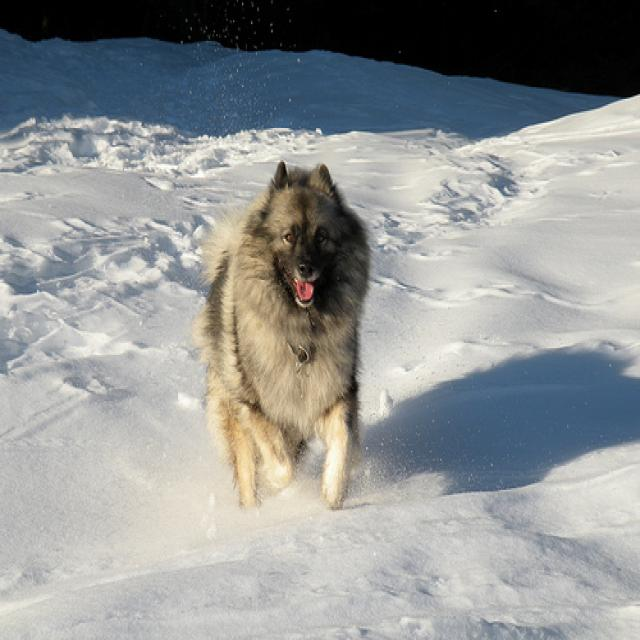dog-keeshond: (184, 152, 380, 521)
